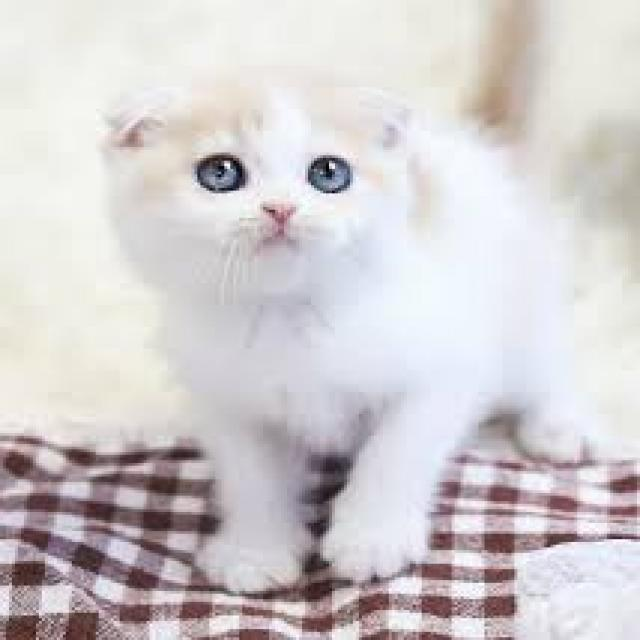cat-face: (95, 29, 428, 326)
